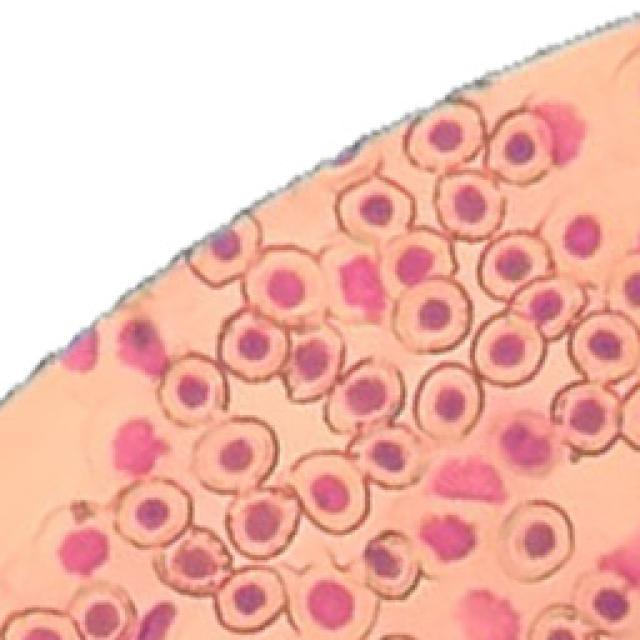RBC: (535, 196, 630, 292), (242, 246, 330, 330), (288, 565, 382, 640), (290, 451, 369, 533), (194, 419, 278, 492), (501, 500, 574, 581), (394, 278, 471, 352), (326, 360, 404, 432), (472, 312, 545, 385), (414, 362, 482, 439), (406, 102, 482, 170), (189, 214, 260, 286), (570, 567, 640, 640), (381, 230, 455, 299), (115, 480, 191, 547), (336, 176, 414, 241), (156, 528, 231, 595), (570, 312, 640, 382), (228, 490, 300, 558), (159, 355, 228, 425), (220, 310, 288, 381), (479, 232, 550, 299), (436, 171, 504, 240), (552, 382, 619, 452), (511, 276, 585, 339), (489, 111, 552, 184), (350, 426, 424, 488), (284, 325, 344, 401), (215, 568, 286, 631), (66, 582, 136, 640), (362, 531, 420, 599), (603, 248, 640, 342), (528, 604, 604, 640), (1, 609, 82, 640)
WBC: (432, 458, 505, 502), (534, 102, 585, 164), (458, 590, 520, 640), (339, 255, 385, 319), (114, 419, 166, 475), (119, 319, 168, 376), (421, 515, 475, 561), (59, 528, 109, 575), (502, 422, 551, 468), (60, 326, 99, 372), (136, 602, 175, 640)
